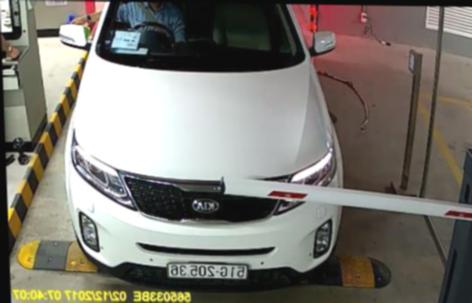License_Plate: (163, 254, 254, 288)
